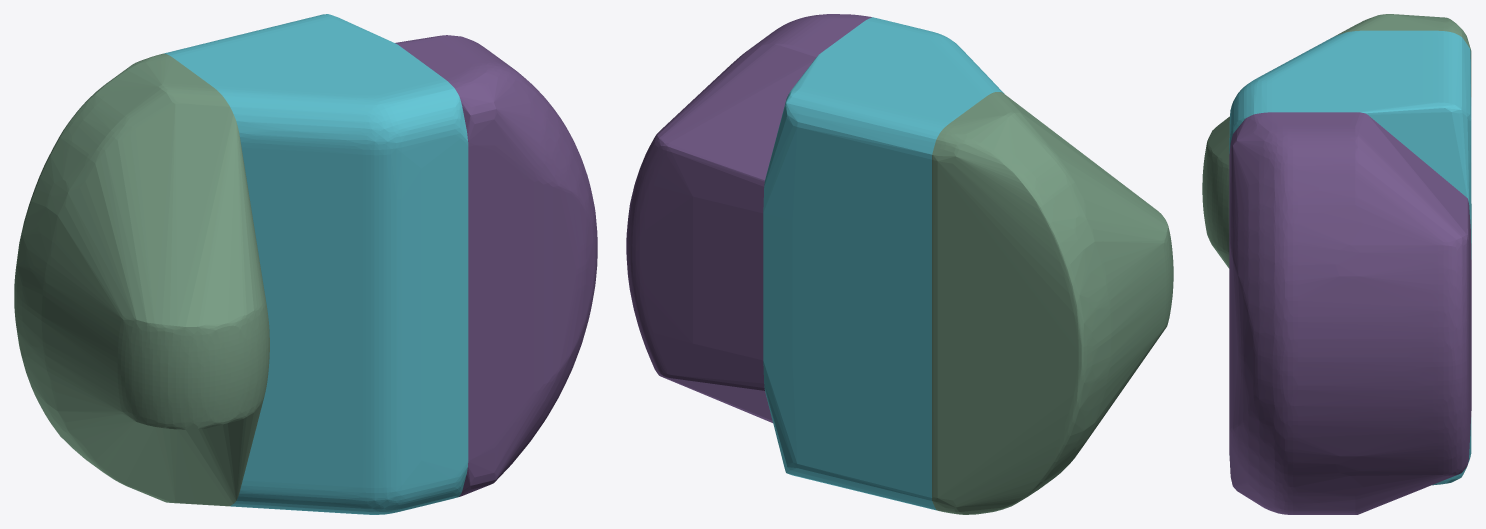
3 renders of one model, left to right at view 1: azimuth 30°, elevation 25°; view 2: azimuth 150°, elevation 25°; view 3: azimuth 270°, elevation 25°, orthographic. The views are drawn at different scales.
Parts seen in each view (by area): view 1: geometry_2, geometry_0, geometry_1; view 2: geometry_2, geometry_0, geometry_1; view 3: geometry_1, geometry_2, geometry_0.
Part boxes in pixels (x1,y1,x2,y2): geometry_2: (164, 14, 468, 514); geometry_0: (14, 53, 269, 506); geometry_1: (395, 35, 597, 496); geometry_2: (763, 17, 1004, 510); geometry_0: (932, 92, 1173, 514); geometry_1: (626, 14, 871, 422); geometry_1: (1229, 112, 1471, 514); geometry_2: (1229, 30, 1471, 485); geometry_0: (1202, 14, 1471, 268).
Size of the model in its own units: 0.6973 by 0.5576 by 0.3575.
